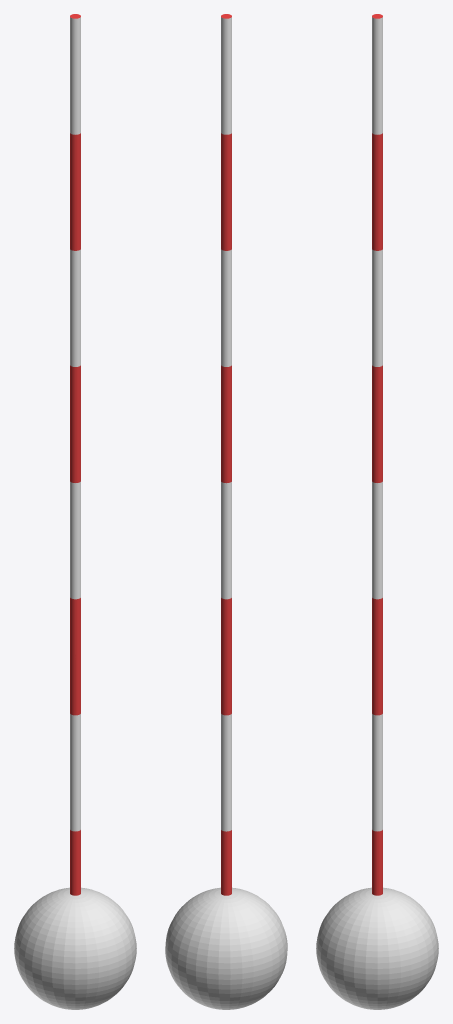
Rendered from BolaDemolicion.fbx.
3 views of the same model, side by side, from view 1: azimuth 90°, elevation 25°; view 2: azimuth 150°, elevation 25°; view 3: azimuth 270°, elevation 25° (orthographic).
Parts seen in each view (by area): view 1: BolaDeDemolicion, PaloBolaDemolicion; view 2: BolaDeDemolicion, PaloBolaDemolicion; view 3: BolaDeDemolicion, PaloBolaDemolicion.
Boxes of the visible parts, box(x1,y1,x2,y2) form: BolaDeDemolicion: box(14, 887, 136, 1009); PaloBolaDemolicion: box(70, 14, 80, 895); BolaDeDemolicion: box(165, 887, 287, 1009); PaloBolaDemolicion: box(221, 14, 231, 895); BolaDeDemolicion: box(316, 887, 438, 1009); PaloBolaDemolicion: box(372, 14, 382, 895).
Bounding box in the file's own units: 551 × 4899 × 551.
Materials: 2 (1 with a texture image).
